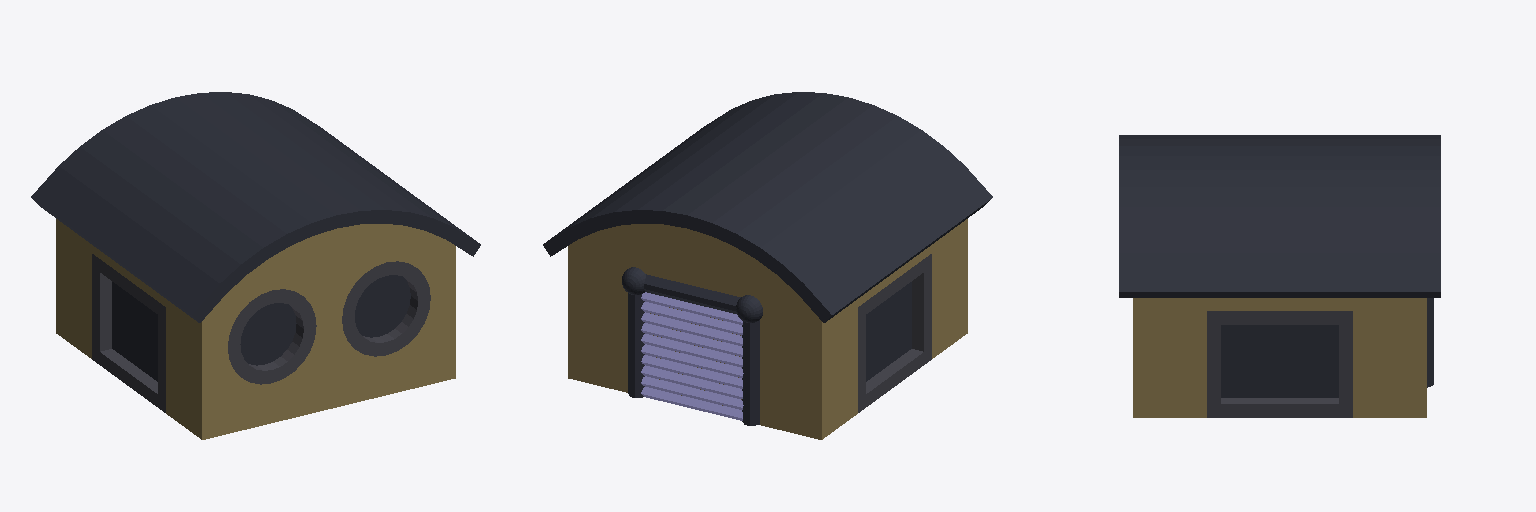
Rendered from Garage1.obj.
3 views of the same model, side by side, from view 1: azimuth 30°, elevation 25°; view 2: azimuth 150°, elevation 25°; view 3: azimuth 270°, elevation 25° (orthographic).
Parts seen in each view (by area): view 1: diesel_cabin_round; view 2: diesel_cabin_round, sheet, arch_horizontal, sphere; view 3: diesel_cabin_round, arch_horizontal.
Part boxes in pixels (bbox=[...]): diesel_cabin_round: bbox=[31, 92, 480, 439]; diesel_cabin_round: bbox=[543, 92, 992, 439]; sheet: bbox=[641, 292, 743, 420]; arch_horizontal: bbox=[628, 274, 759, 425]; sphere: bbox=[622, 267, 762, 322]; diesel_cabin_round: bbox=[1119, 135, 1440, 417]; arch_horizontal: bbox=[1427, 298, 1433, 387].
Bounding box in the file's own units: 1.14 × 0.7502 × 1.1.